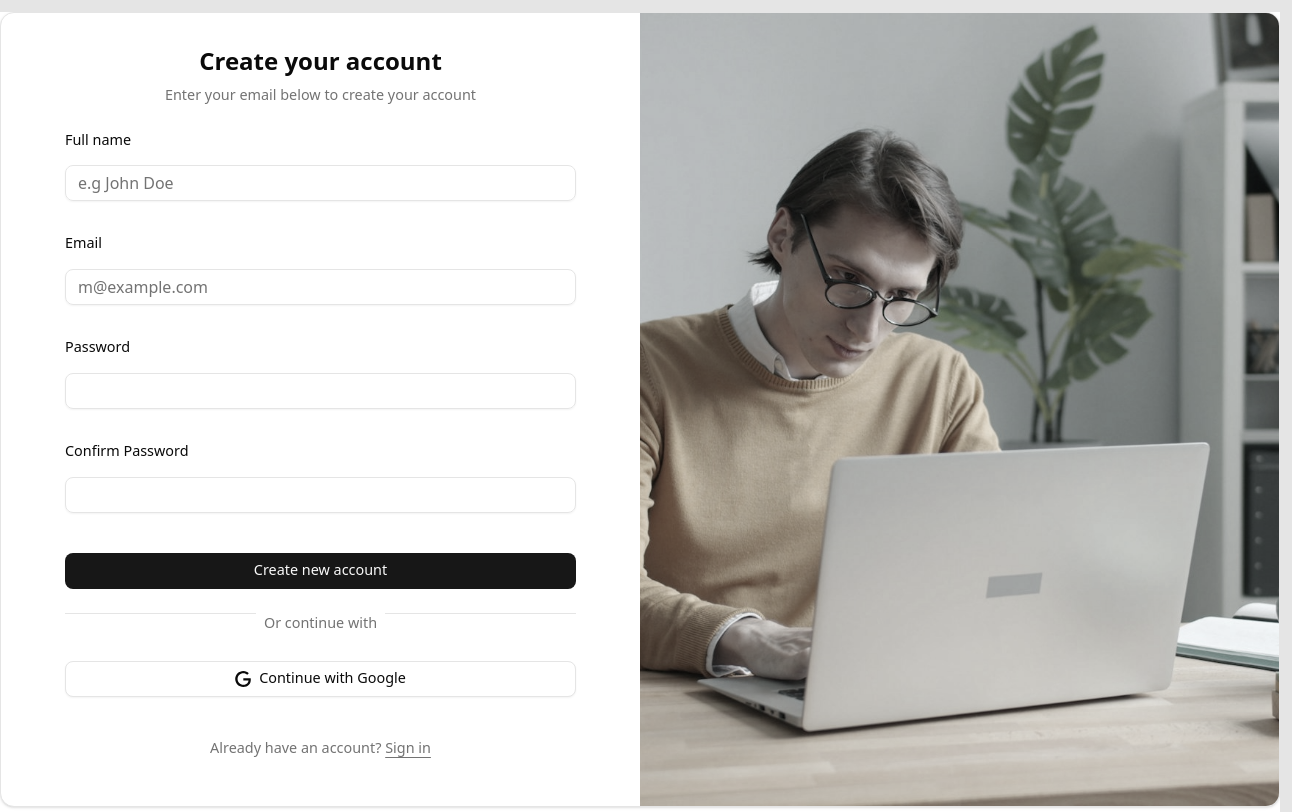
Test case: SignupForm › Form Validation Behavior › prevents submission and shows errors when fields are empty
What coordinates should you click on to do the following:
click the button "Create new account"
I would click on:
 (321, 571)
Its box is left=65, top=553, right=576, bottom=589.
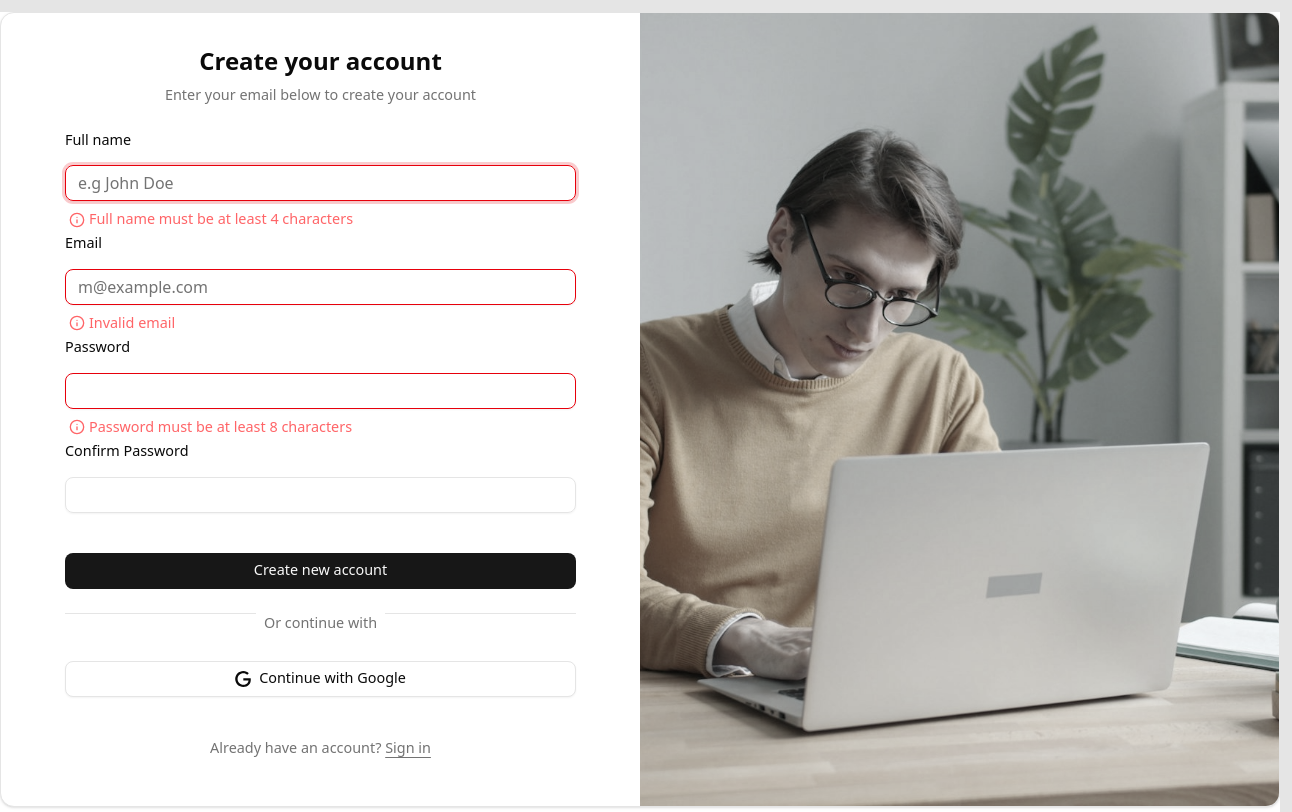
Result: the text "Full name must be at least 4 characters" is shown at left=65, top=209, right=353, bottom=230
Result: the text "Invalid email" is shown at left=65, top=313, right=175, bottom=334
Result: the text "Password must be at least 8 characters" is shown at left=65, top=417, right=352, bottom=438
